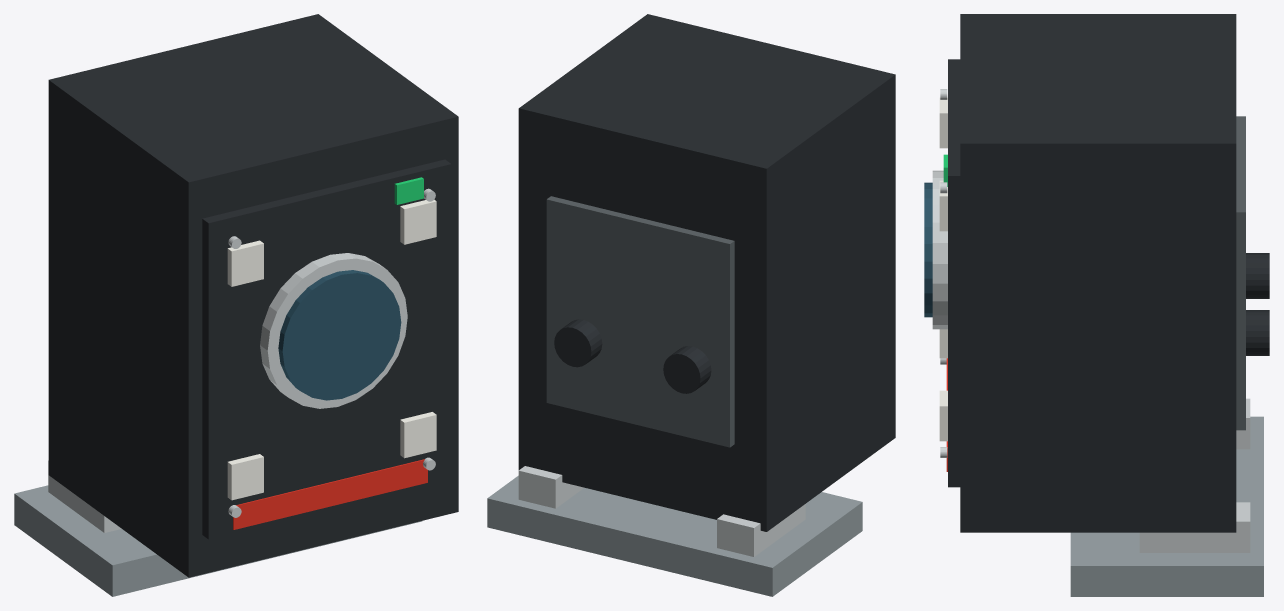
3 renders of one model, left to right at view 1: azimuth 30°, elevation 25°; view 2: azimuth 150°, elevation 25°; view 3: azimuth 270°, elevation 25°, orthographic. The views are drawn at different scales.
Parts seen in each view (by area): view 1: housing, front bezel, optical lens, Mount bracket, lens surround, red identification stripe, illumination emitter.002, illumination emitter, illumination emitter.003, illumination emitter.001, mounting flange, status indicator; view 2: housing, Rear connector plate, Mount bracket, mounting flange, mounting flange.001, Electrical connector, Electrical connector.001; view 3: housing, Mount bracket, front bezel, Rear connector plate, mounting flange.001, lens surround, optical lens, Electrical connector, Electrical connector.001, illumination emitter.002, mounting flange.
Boxes of the visible parts, left/top/right/bottom form: housing: left=48, top=14, right=458, bottom=577; front bezel: left=202, top=159, right=451, bottom=539; optical lens: left=278, top=270, right=401, bottom=400; Mount bracket: left=14, top=485, right=422, bottom=596; lens surround: left=260, top=253, right=407, bottom=408; red identification stripe: left=233, top=459, right=427, bottom=529; illumination emitter.002: left=400, top=412, right=436, bottom=458; illumination emitter: left=227, top=454, right=263, bottom=500; illumination emitter.003: left=400, top=199, right=436, bottom=244; illumination emitter.001: left=227, top=240, right=263, bottom=286; mounting flange: left=48, top=460, right=121, bottom=532; status indicator: left=394, top=177, right=423, bottom=204; housing: left=518, top=14, right=895, bottom=531; Rear connector plate: left=546, top=196, right=734, bottom=447; Mount bracket: left=487, top=475, right=862, bottom=596; mounting flange: left=717, top=504, right=805, bottom=556; mounting flange.001: left=518, top=466, right=583, bottom=508; Electrical connector: left=663, top=346, right=711, bottom=393; Electrical connector.001: left=554, top=319, right=602, bottom=367; housing: left=960, top=14, right=1236, bottom=532; Mount bracket: left=1070, top=416, right=1263, bottom=596; front bezel: left=948, top=59, right=960, bottom=487; Rear connector plate: left=1236, top=116, right=1245, bottom=430; mounting flange.001: left=1139, top=502, right=1250, bottom=552; lens surround: left=932, top=170, right=947, bottom=329; optical lens: left=924, top=182, right=932, bottom=317; Electrical connector: left=1246, top=253, right=1269, bottom=298; Electrical connector.001: left=1246, top=310, right=1269, bottom=355; illumination emitter.002: left=939, top=390, right=947, bottom=441; mounting flange: left=1236, top=398, right=1250, bottom=449.
Bounding box in the file's own units: 0.115 × 0.1596 × 0.1125.
